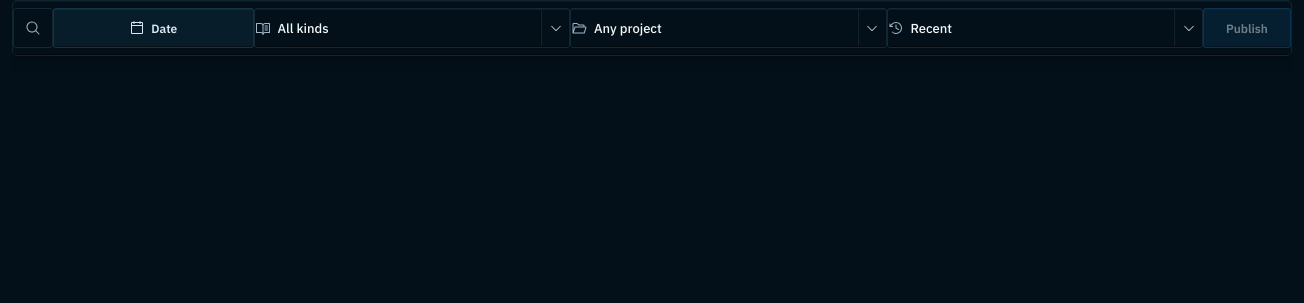
Test: LogbookToolbar › renders Kind as a searchable dropdown like Project
This screenshot has width=1304, height=303.
Click the button "All kinds" at (303, 28), box [254,8,569,48]
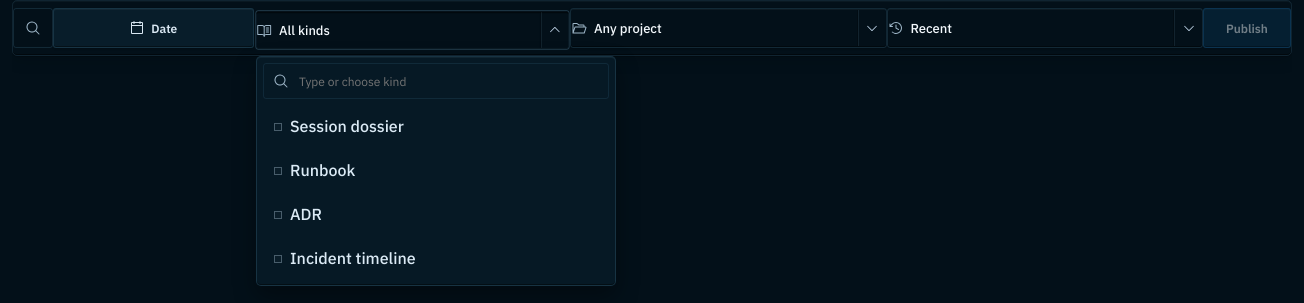
Expected: the element with class "filterable-select-menu" is shown, [256,56,616,286]
Expected: the field with placeholder "Type or choose kind" is shown, [297,72,599,89]
Expected: the list with class "filterable-select-options" is shown, [263,105,609,279]
